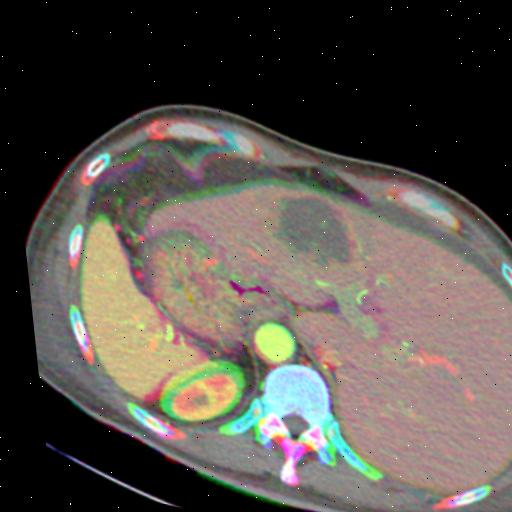Tumor: (272, 191, 346, 258)
